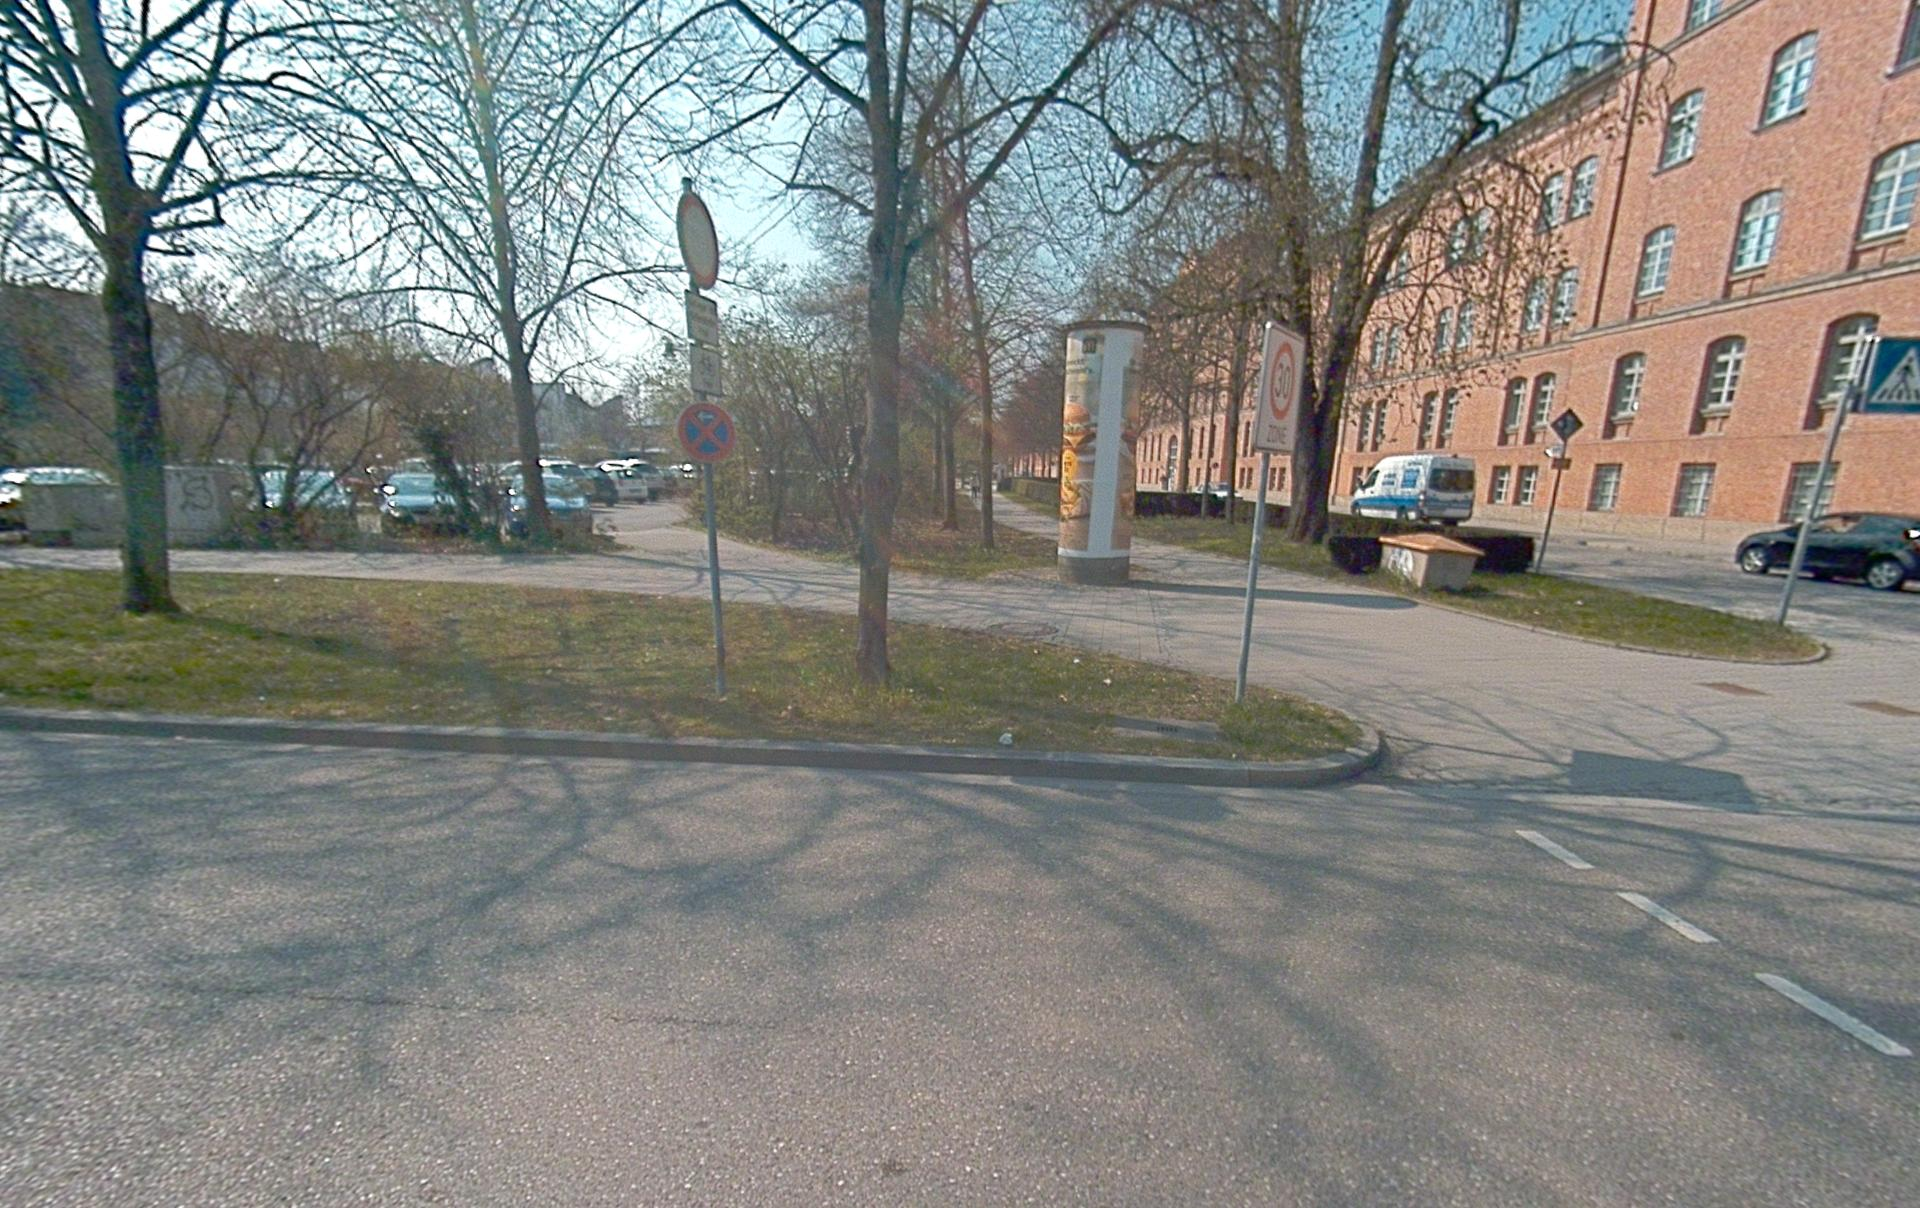car: (1735, 511, 1920, 591), (0, 466, 115, 530), (502, 473, 595, 540), (377, 470, 467, 533), (257, 468, 355, 518), (594, 461, 650, 502)
traffic sign: (1853, 335, 1920, 413), (685, 291, 721, 348)
